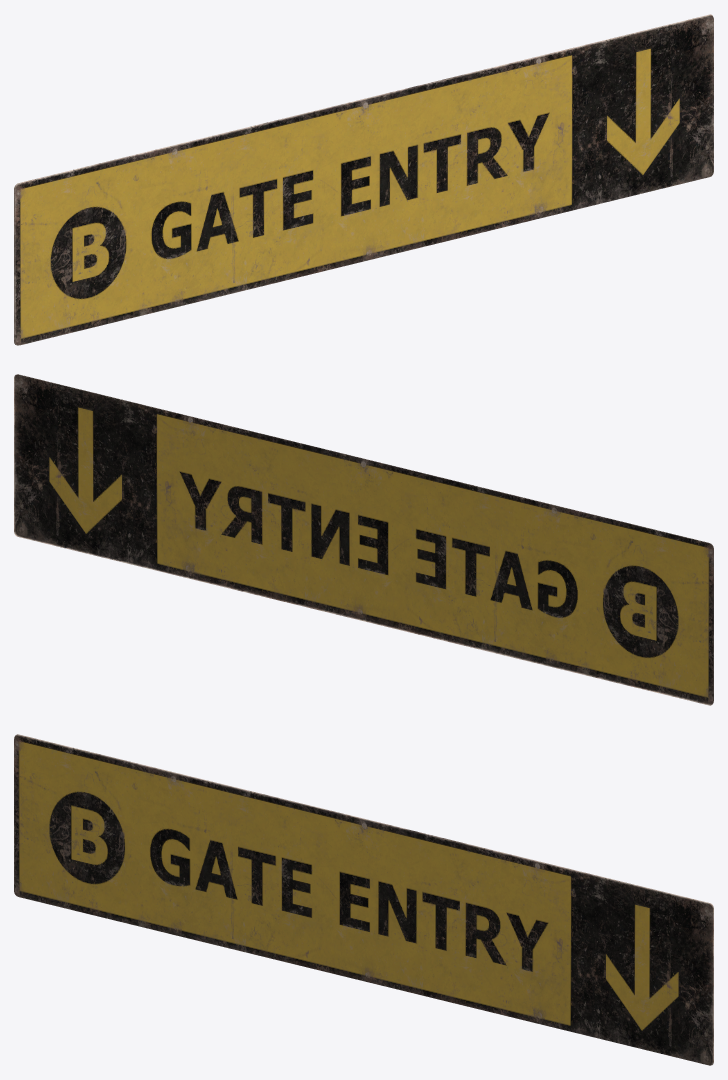
File: SM_Sign_02c.glb
3 views of the same model, one above another, from view 1: azimuth 30°, elevation 25°; view 2: azimuth 150°, elevation 25°; view 3: azimuth 330°, elevation 25° (orthographic).
Parts seen in each view (by area): view 1: SM_Sign_02c; view 2: SM_Sign_02c; view 3: SM_Sign_02c.
Boxes of the visible parts, x1,y1,x2,y2 form: SM_Sign_02c: (14,14,713,345); SM_Sign_02c: (14,374,713,705); SM_Sign_02c: (14,734,713,1065).
Size of the model in its own units: 1.93 by 0.4269 by 0.00402.
1 material, 1 textured.
